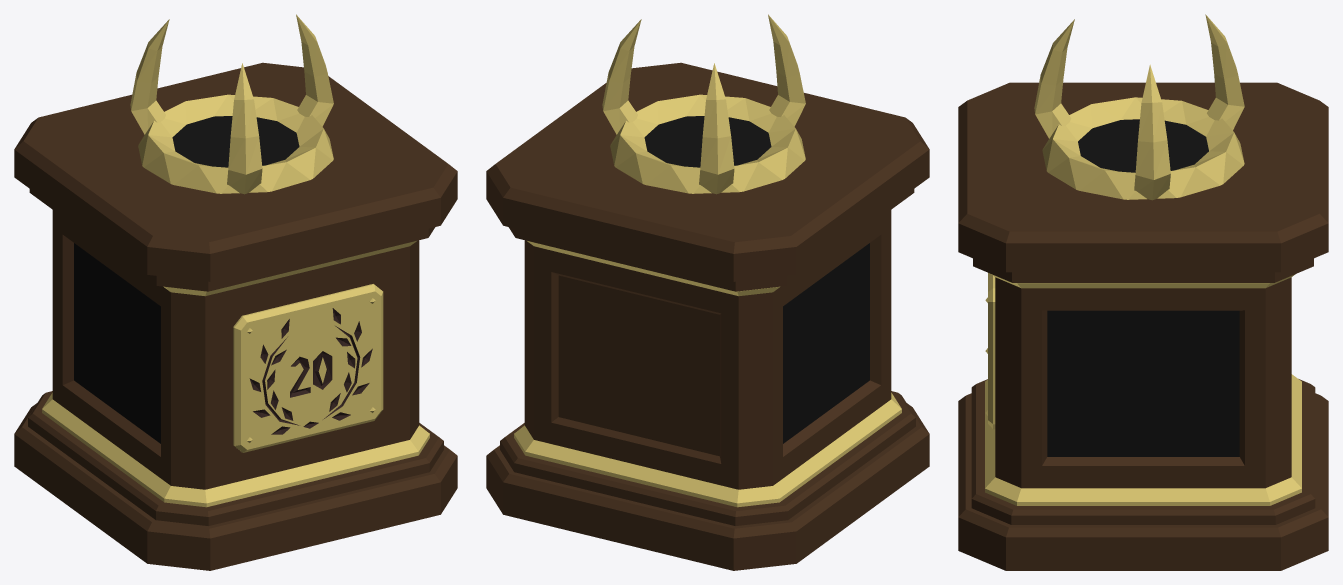
Rendered from medal.glb.
3 renders of one model, left to right at view 1: azimuth 30°, elevation 25°; view 2: azimuth 150°, elevation 25°; view 3: azimuth 270°, elevation 25°, orthographic. The views are drawn at different scales.
Visible parts, largest first — view 1: plinth, gilt; view 2: plinth, gilt; view 3: plinth, gilt.
Part boxes in pixels (x1,y1,x2,y2): plinth: [14, 62, 457, 570]; gilt: [42, 14, 429, 507]; plinth: [486, 62, 929, 570]; gilt: [514, 14, 901, 507]; plinth: [958, 82, 1328, 570]; gilt: [985, 14, 1301, 505].
Size of the model in its own units: 0.05 by 0.0686 by 0.05.
